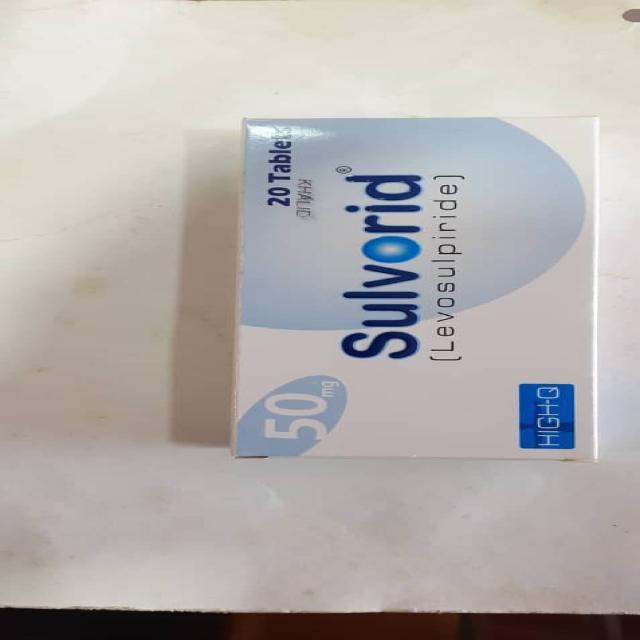drug-name: (340, 162, 424, 360)
